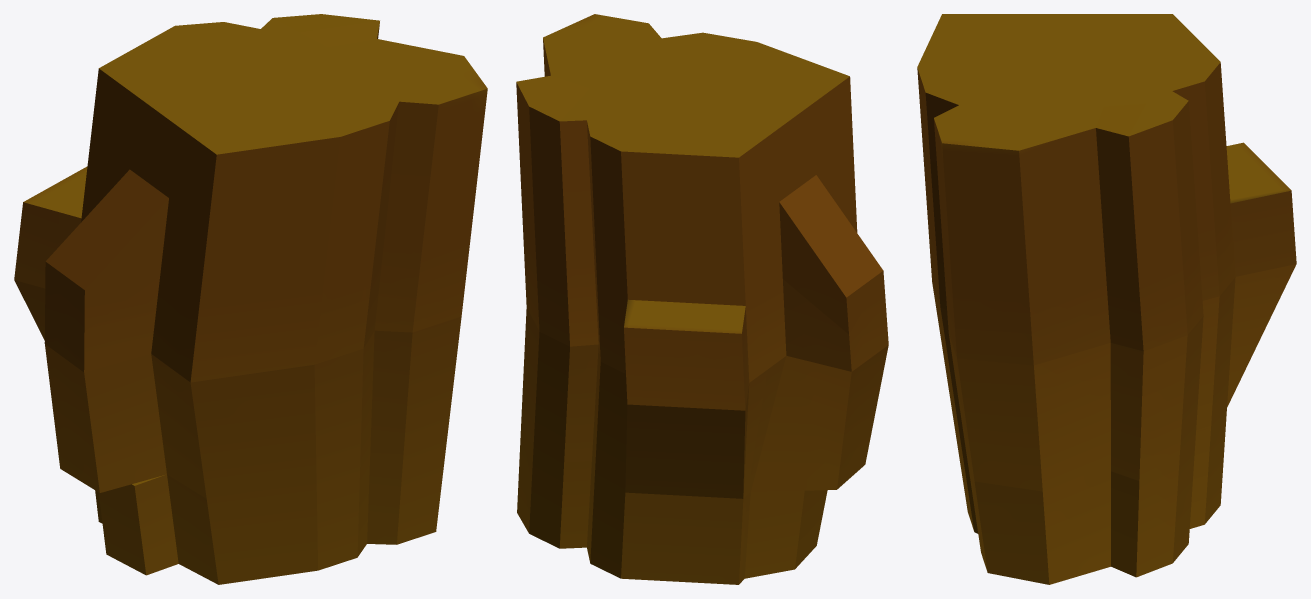
Rendered from stone_02.fbx.
3 renders of one model, left to right at view 1: azimuth 30°, elevation 25°; view 2: azimuth 150°, elevation 25°; view 3: azimuth 270°, elevation 25°, orthographic. The views are drawn at different scales.
Visible parts, largest first — view 1: Cube.123; view 2: Cube.123; view 3: Cube.123.
Boxes of the visible parts, bbox=[...] form: Cube.123: bbox=[14, 14, 487, 584]; Cube.123: bbox=[516, 14, 888, 584]; Cube.123: bbox=[917, 14, 1296, 584].
Bounding box in the file's own units: 983 × 1147 × 885.
